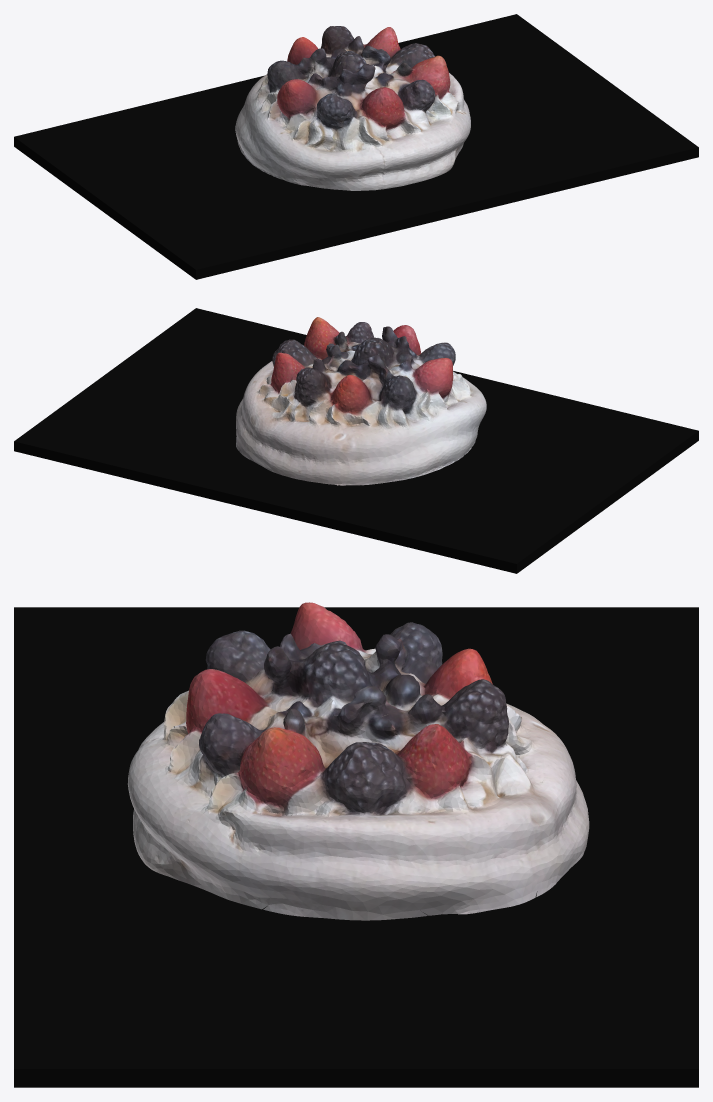
The model's file is keik.sefid.jadid.glb.
3 renders of one model, top to bottom at view 1: azimuth 30°, elevation 25°; view 2: azimuth 150°, elevation 25°; view 3: azimuth 270°, elevation 25°, orthographic. The views are drawn at different scales.
Visible parts, largest first — view 1: Cube, object 1; view 2: Cube, object 1; view 3: Cube, object 1.
Part boxes in pixels (x1,y1,x2,y2): Cube: (14, 14, 698, 279); object 1: (235, 26, 470, 190); Cube: (14, 308, 698, 573); object 1: (236, 317, 486, 485); Cube: (14, 607, 698, 1087); object 1: (127, 602, 589, 920).
Bounding box in the file's own units: 0.2136 × 0.043 × 0.134.
2 materials, 1 textured.
